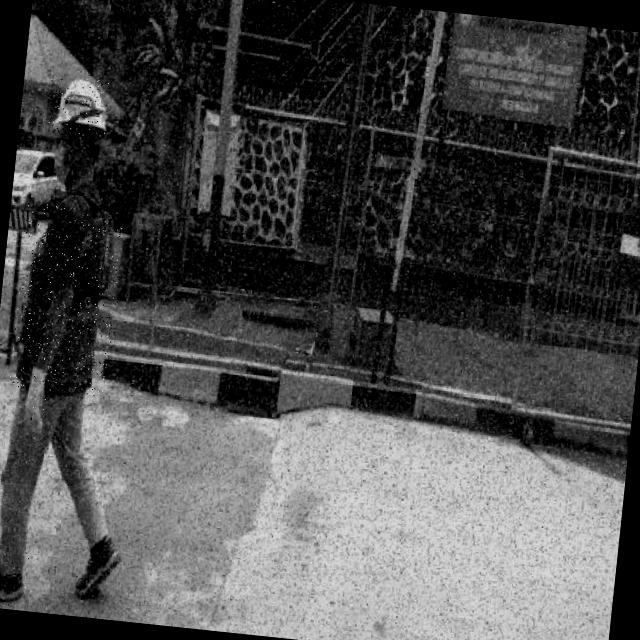boots: (72, 527, 124, 604), (0, 551, 28, 610)
helmet: (47, 74, 112, 138)
vest: (8, 202, 124, 398)
